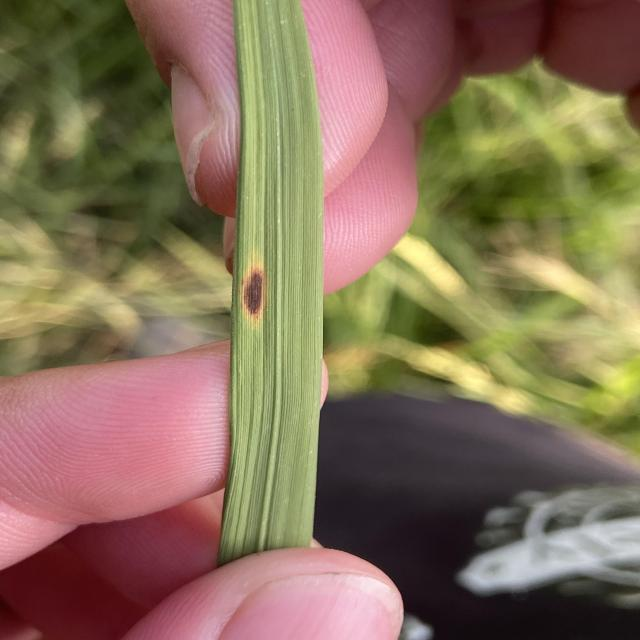Dom nau: (243, 272, 263, 315)
